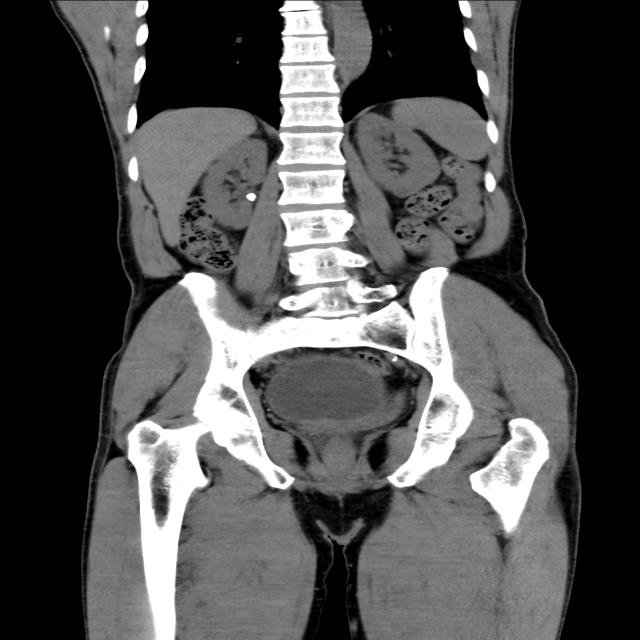kidneystone: (245, 192, 257, 201)
